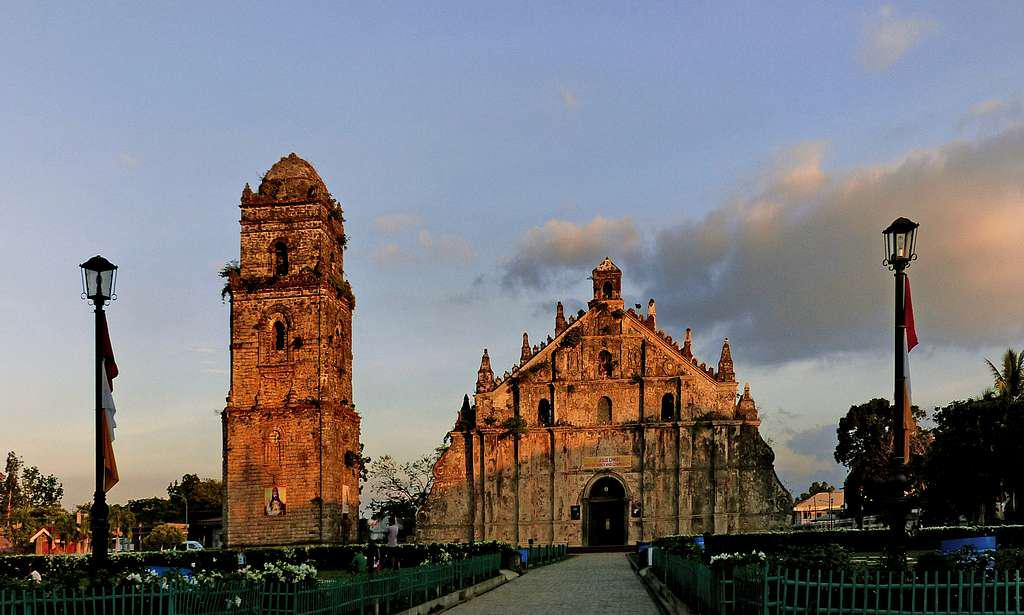Environmental Damage: (315, 271, 361, 302), (223, 263, 258, 300), (497, 412, 533, 437), (563, 323, 586, 352)
Paoay Church: (213, 143, 798, 539)
